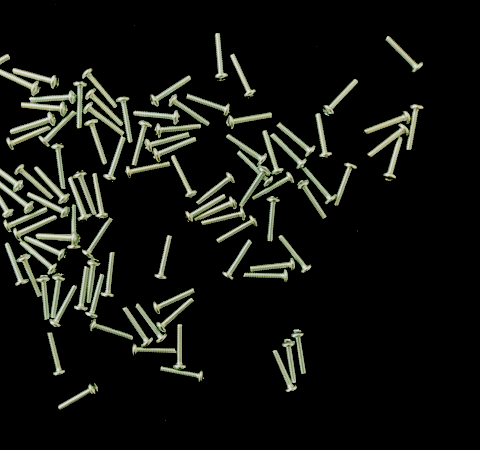longscrew: (382, 34, 426, 76), (84, 87, 125, 129), (321, 77, 361, 120), (80, 67, 119, 111), (365, 123, 410, 161), (13, 162, 55, 202), (81, 101, 126, 138), (167, 93, 213, 129), (234, 148, 275, 188), (31, 164, 71, 205), (149, 73, 194, 109), (268, 131, 308, 171), (299, 165, 338, 206), (274, 120, 316, 158), (17, 239, 60, 276), (54, 381, 102, 414), (237, 164, 272, 209), (80, 215, 114, 261), (223, 133, 269, 167), (276, 234, 314, 275), (38, 109, 76, 149), (214, 214, 260, 247), (195, 171, 237, 207), (361, 109, 413, 138), (120, 305, 154, 349), (221, 238, 254, 283), (183, 193, 228, 226), (156, 297, 196, 334), (250, 171, 296, 203), (228, 52, 258, 101), (296, 178, 329, 222), (150, 134, 198, 164), (133, 302, 167, 344), (13, 214, 60, 244), (151, 286, 196, 317), (5, 124, 53, 153), (2, 206, 50, 235), (331, 161, 359, 210), (1, 242, 30, 289), (269, 348, 298, 395), (192, 195, 239, 224), (25, 191, 72, 220), (65, 175, 93, 223), (168, 153, 197, 199), (183, 92, 234, 118), (50, 283, 78, 330), (22, 235, 69, 263), (87, 317, 135, 344), (71, 169, 98, 217), (259, 128, 285, 177), (15, 252, 42, 299), (0, 67, 42, 97), (0, 178, 35, 214), (380, 135, 405, 185), (103, 135, 128, 185), (8, 112, 57, 137), (11, 67, 62, 91), (83, 118, 108, 166), (44, 329, 68, 378), (129, 119, 153, 168), (225, 110, 275, 133), (143, 131, 190, 155), (152, 233, 174, 284), (200, 205, 248, 228), (313, 112, 335, 162), (84, 272, 106, 321), (404, 102, 425, 153), (157, 365, 207, 386), (115, 94, 135, 145), (124, 160, 172, 181), (212, 31, 231, 84), (130, 108, 183, 127), (90, 171, 110, 221), (289, 329, 310, 376), (47, 272, 67, 320), (49, 142, 69, 190), (280, 337, 299, 385), (73, 265, 91, 315), (153, 122, 203, 140), (0, 157, 25, 193), (34, 274, 53, 321), (247, 257, 297, 274), (264, 195, 281, 245), (71, 80, 88, 130), (18, 100, 68, 117), (100, 251, 117, 300), (130, 343, 179, 360), (242, 269, 291, 286), (66, 203, 82, 253), (172, 323, 188, 373), (27, 89, 77, 105), (85, 258, 102, 305), (34, 231, 82, 247), (0, 174, 15, 219), (0, 51, 13, 86)
